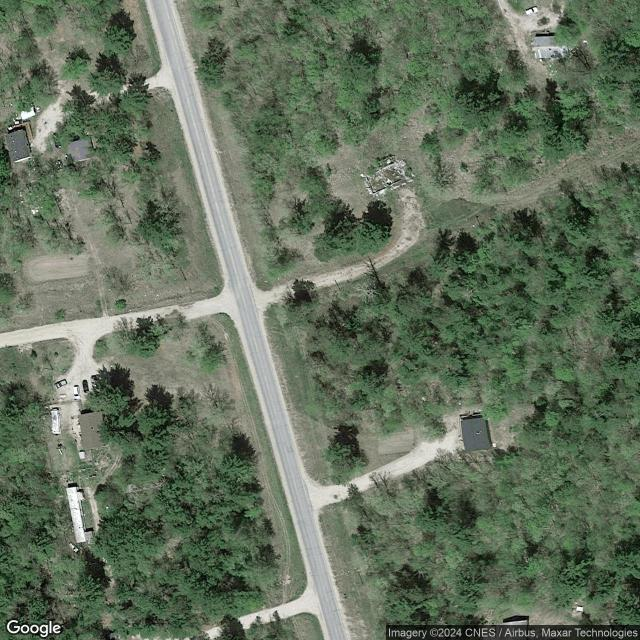Propane: (58, 449, 63, 455)
